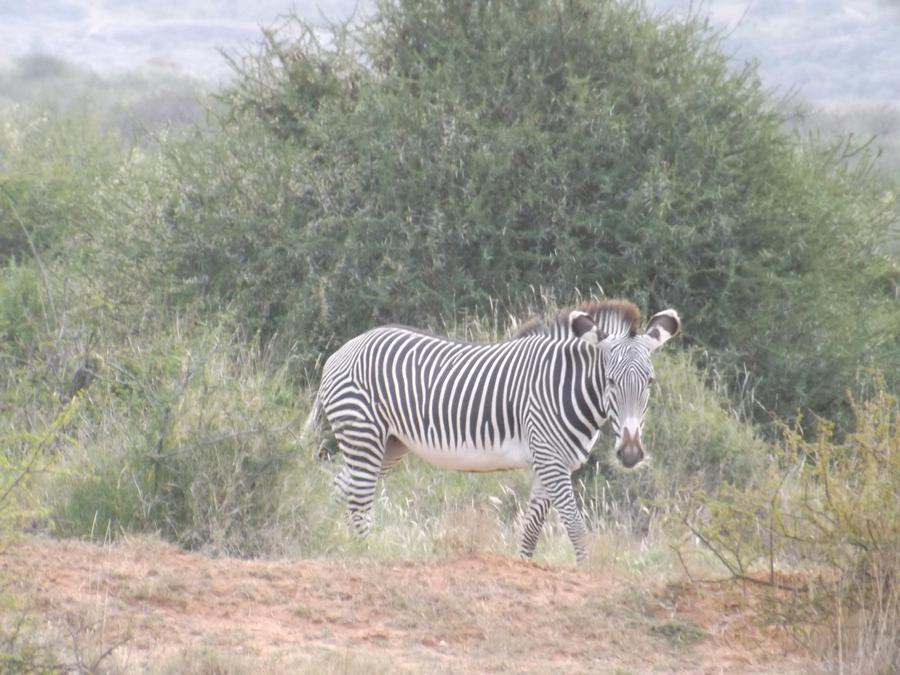zebra_grevys: (306, 305, 583, 462)
